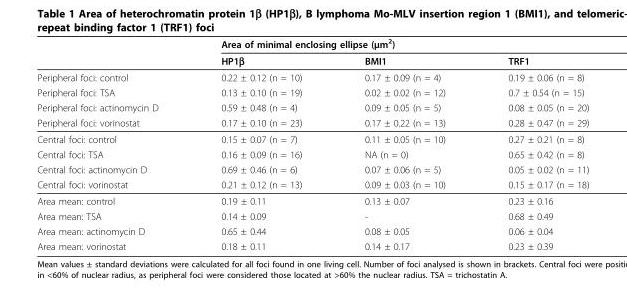table: (36, 36, 588, 251)
table column: (36, 36, 189, 251), (332, 36, 476, 251), (189, 36, 332, 251), (476, 36, 588, 251)
table column header: (36, 36, 588, 69)
table row: (36, 51, 588, 69), (36, 114, 588, 130), (36, 130, 588, 146), (36, 176, 588, 192), (36, 192, 588, 208), (36, 36, 588, 51), (36, 69, 588, 84), (36, 84, 588, 99), (36, 99, 588, 114), (36, 146, 588, 161), (36, 161, 588, 176), (36, 208, 588, 223), (36, 223, 588, 238), (36, 238, 588, 251)
table spanning cell: (189, 36, 588, 51)
